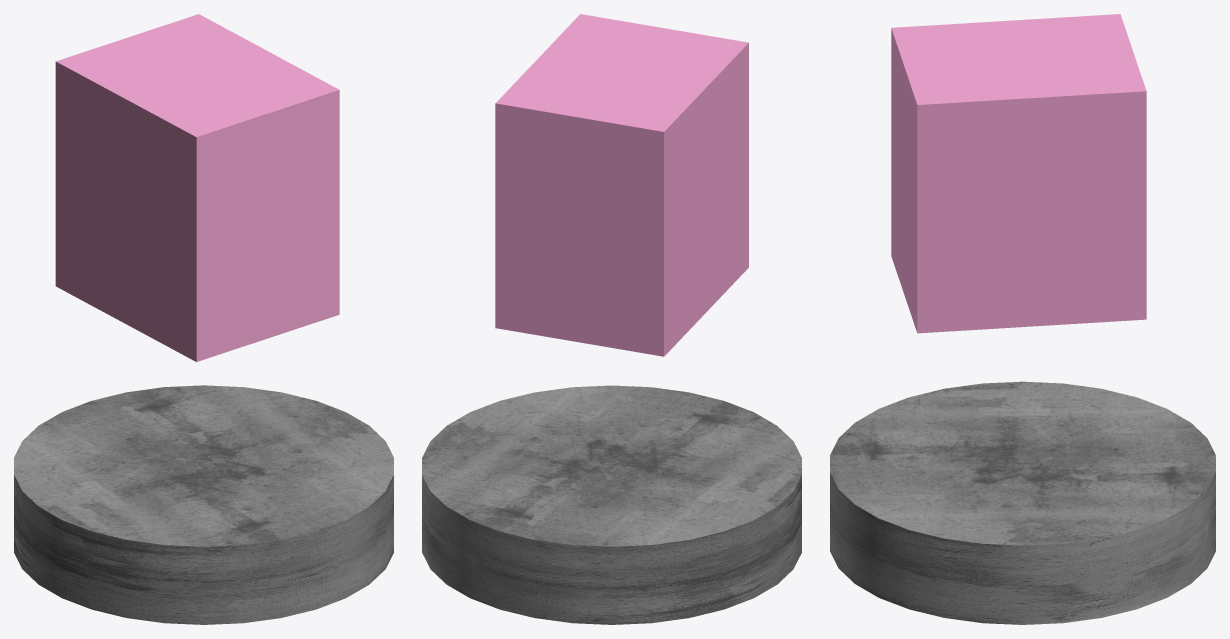
The model's file is cubPink.glb.
The picture shows the model from 3 angles, left to right: view 1: azimuth 30°, elevation 25°; view 2: azimuth 150°, elevation 25°; view 3: azimuth 270°, elevation 25°; orthographic projection.
Parts seen in each view (by area): view 1: 021_Box, 022_Cylinder_-_baked_2; view 2: 022_Cylinder_-_baked_2, 021_Box; view 3: 022_Cylinder_-_baked_2, 021_Box.
Boxes of the visible parts, left/top/right/bottom form: 021_Box: left=55, top=14, right=339, bottom=361; 022_Cylinder_-_baked_2: left=14, top=385, right=393, bottom=624; 022_Cylinder_-_baked_2: left=422, top=385, right=801, bottom=624; 021_Box: left=495, top=14, right=748, bottom=356; 022_Cylinder_-_baked_2: left=830, top=381, right=1215, bottom=624; 021_Box: left=891, top=14, right=1146, bottom=333.
Bounding box in the file's own units: 17.34 × 23.65 × 17.25.
Materials: 2 (1 with a texture image).
